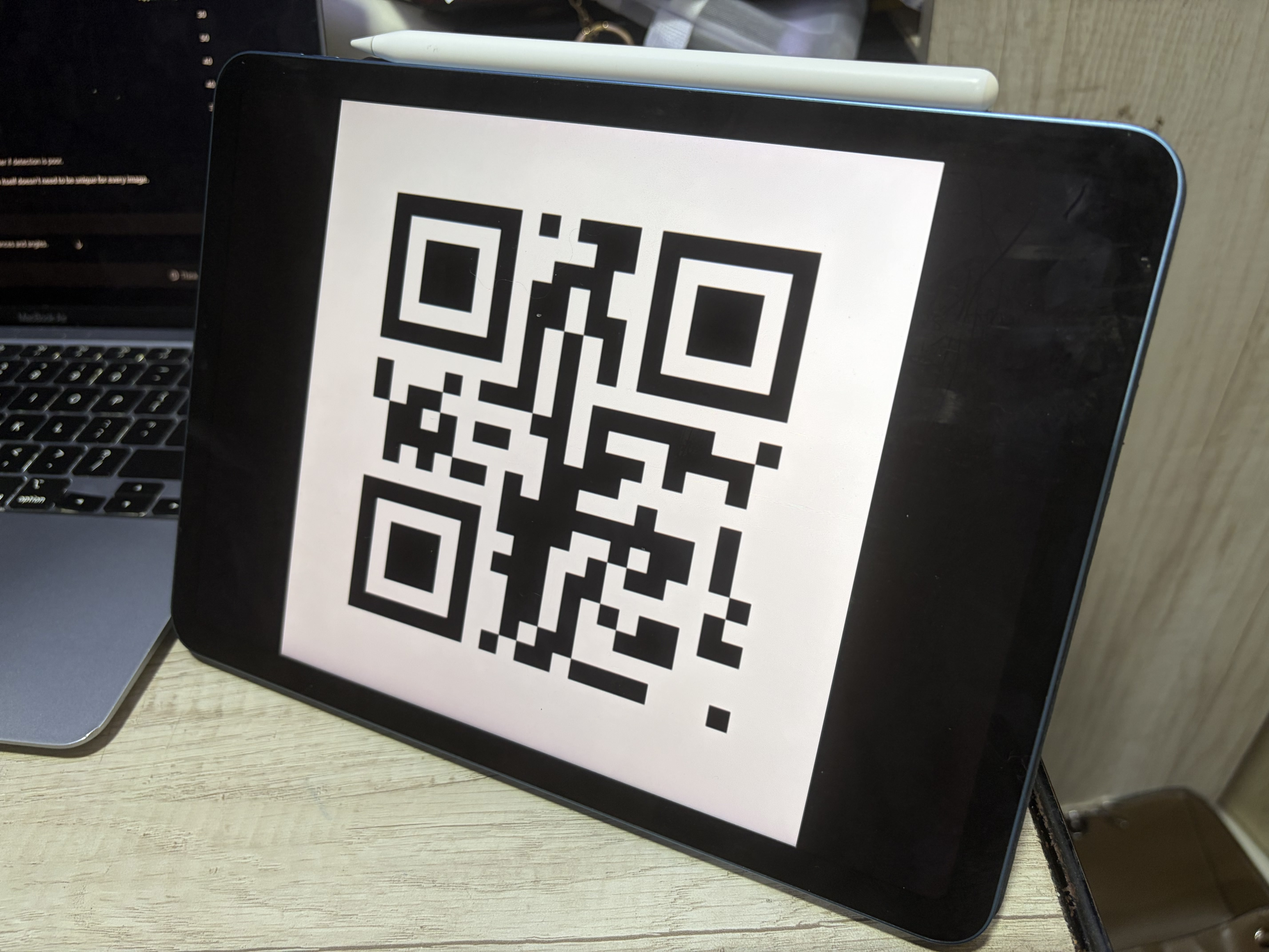QR: (296, 177, 844, 793)
